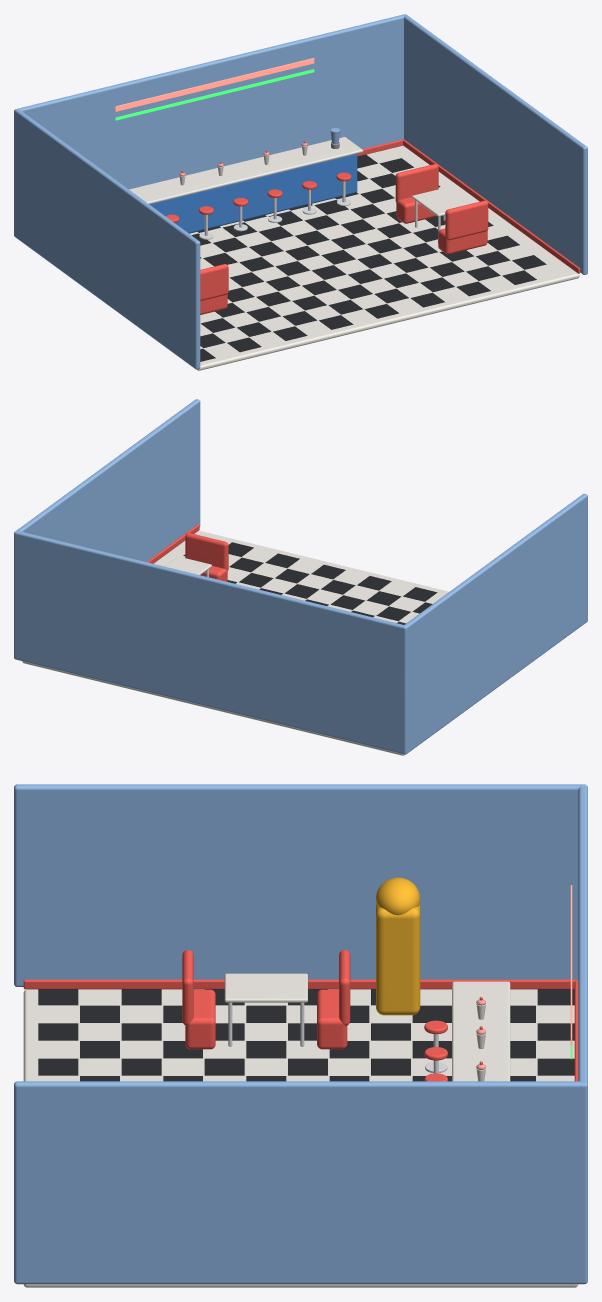
File: retro_diner.glb
3 renders of one model, top to bottom at view 1: azimuth 30°, elevation 25°; view 2: azimuth 150°, elevation 25°; view 3: azimuth 270°, elevation 25°, orthographic. The views are drawn at different scales.
Visible parts, largest first — view 1: Set, Flat_001, Glow; view 2: Set, Flat_001; view 3: Set, Flat_001, Flat_020, Flat_021, Flat_025, Flat_032, Flat_033, Flat_034, Flat_012, Flat_014, Flat_017, Flat_027 (+6 smaller).
Boxes of the visible parts, left/top/right/bottom form: Set: left=14, top=14, right=587, bottom=369; Flat_001: left=189, top=145, right=579, bottom=370; Glow: left=115, top=58, right=314, bottom=120; Set: left=14, top=399, right=587, bottom=754; Flat_001: left=22, top=530, right=448, bottom=755; Set: left=14, top=784, right=587, bottom=1284; Flat_001: left=23, top=989, right=578, bottom=1287; Flat_020: left=121, top=1023, right=161, bottom=1040; Flat_021: left=38, top=1023, right=78, bottom=1040; Flat_025: left=246, top=1041, right=286, bottom=1058; Flat_032: left=204, top=1058, right=244, bottom=1075; Flat_033: left=121, top=1058, right=161, bottom=1075; Flat_034: left=38, top=1058, right=78, bottom=1075; Flat_012: left=246, top=1005, right=286, bottom=1022; Flat_014: left=80, top=1005, right=119, bottom=1022; Flat_017: left=371, top=1023, right=410, bottom=1040; Flat_027: left=80, top=1041, right=119, bottom=1058.
Bounding box in the file's own units: 10.28 × 3.32 × 8.28.
